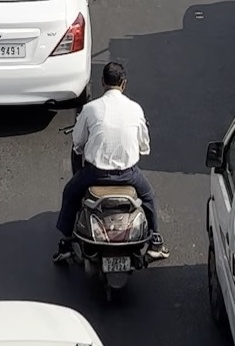BikeWithRider: (47, 55, 174, 304)
NoHelmet: (94, 56, 134, 100)
